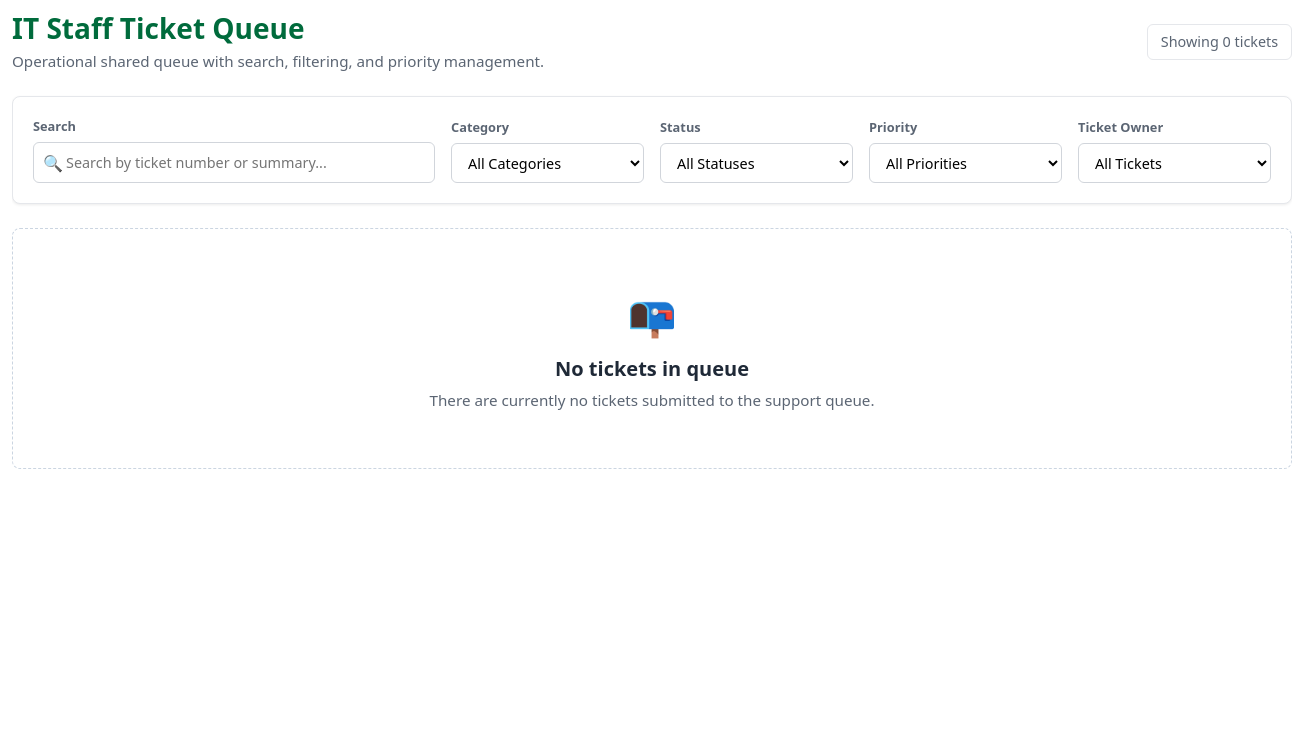
Test: StaffTicketQueue Component (UI-03, UI-04, AC-07, AC-08, FR-15, FR-11) › UI-04: Queue search, filter, and pagination reactivity (AC-08, FR-11) › renders no-results feedback and clear filters action when search matches zero tickets (UI Spec 6)
Type "NonExistentTicketQuery" into the field with placeholder "Search by ticket number or summary..." at [234, 163], box [33,142,435,183]
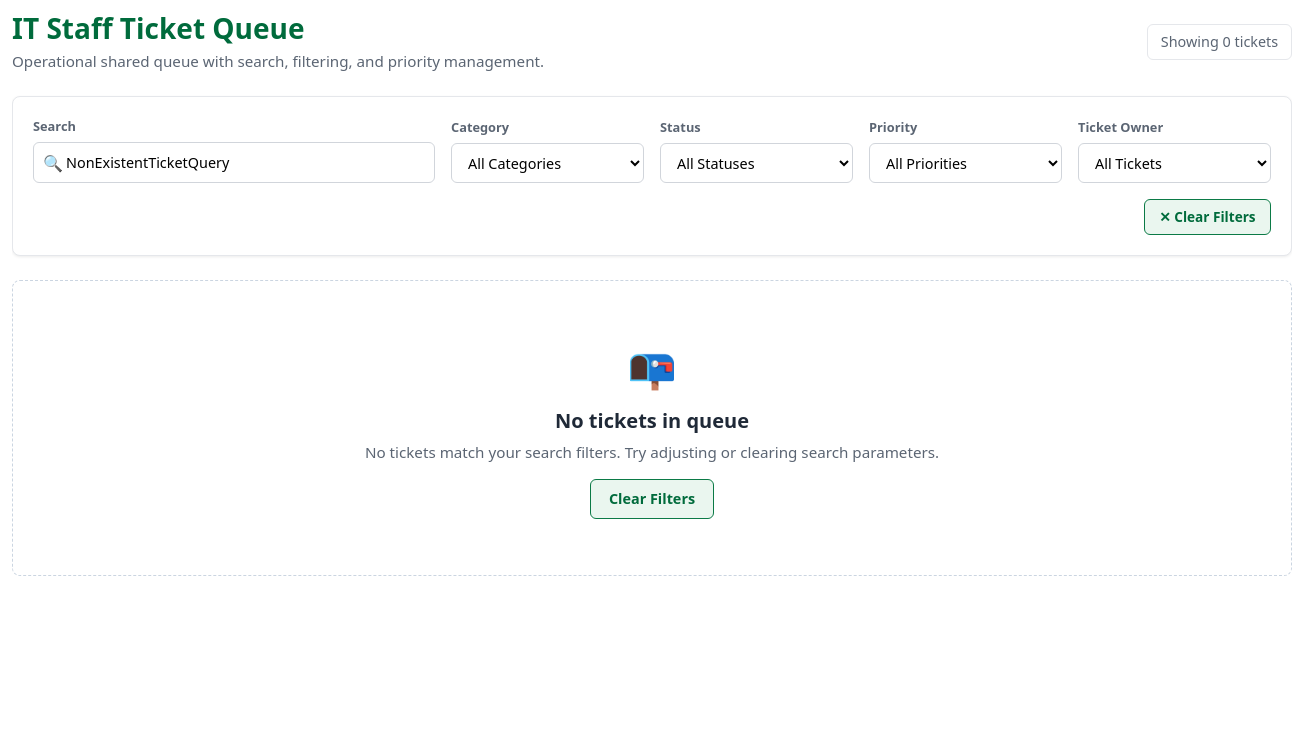
Expected: the heading "No tickets in queue" is shown, [555,406,749,434]
Result: the text "No tickets match your search filters. Try adjusting or clearing search parameters." is shown at [365,442,939,462]
Result: the button "Clear Filters" is shown at [590,479,714,519]
